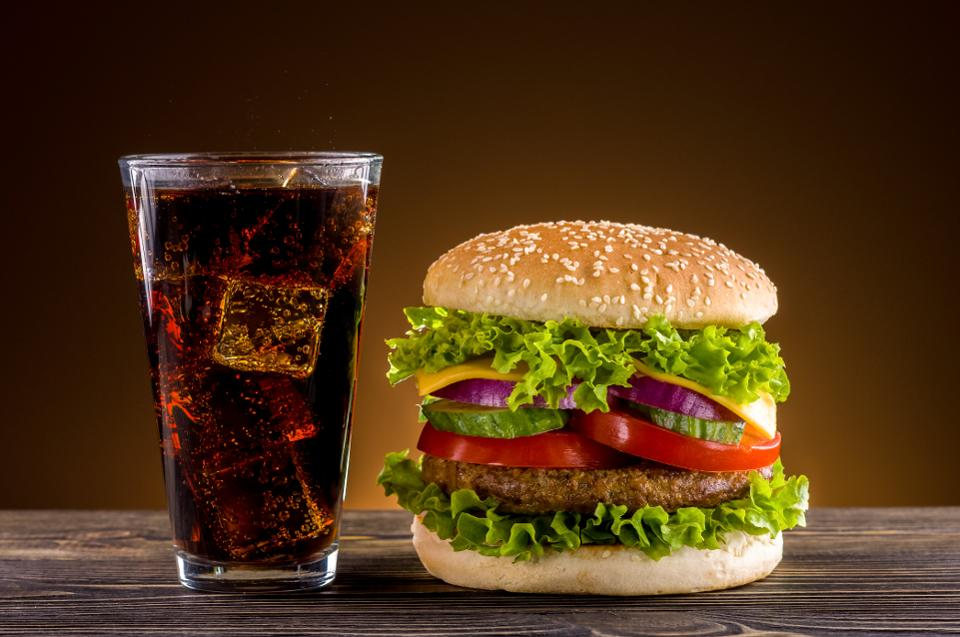hamburger: (415, 209, 813, 593)
